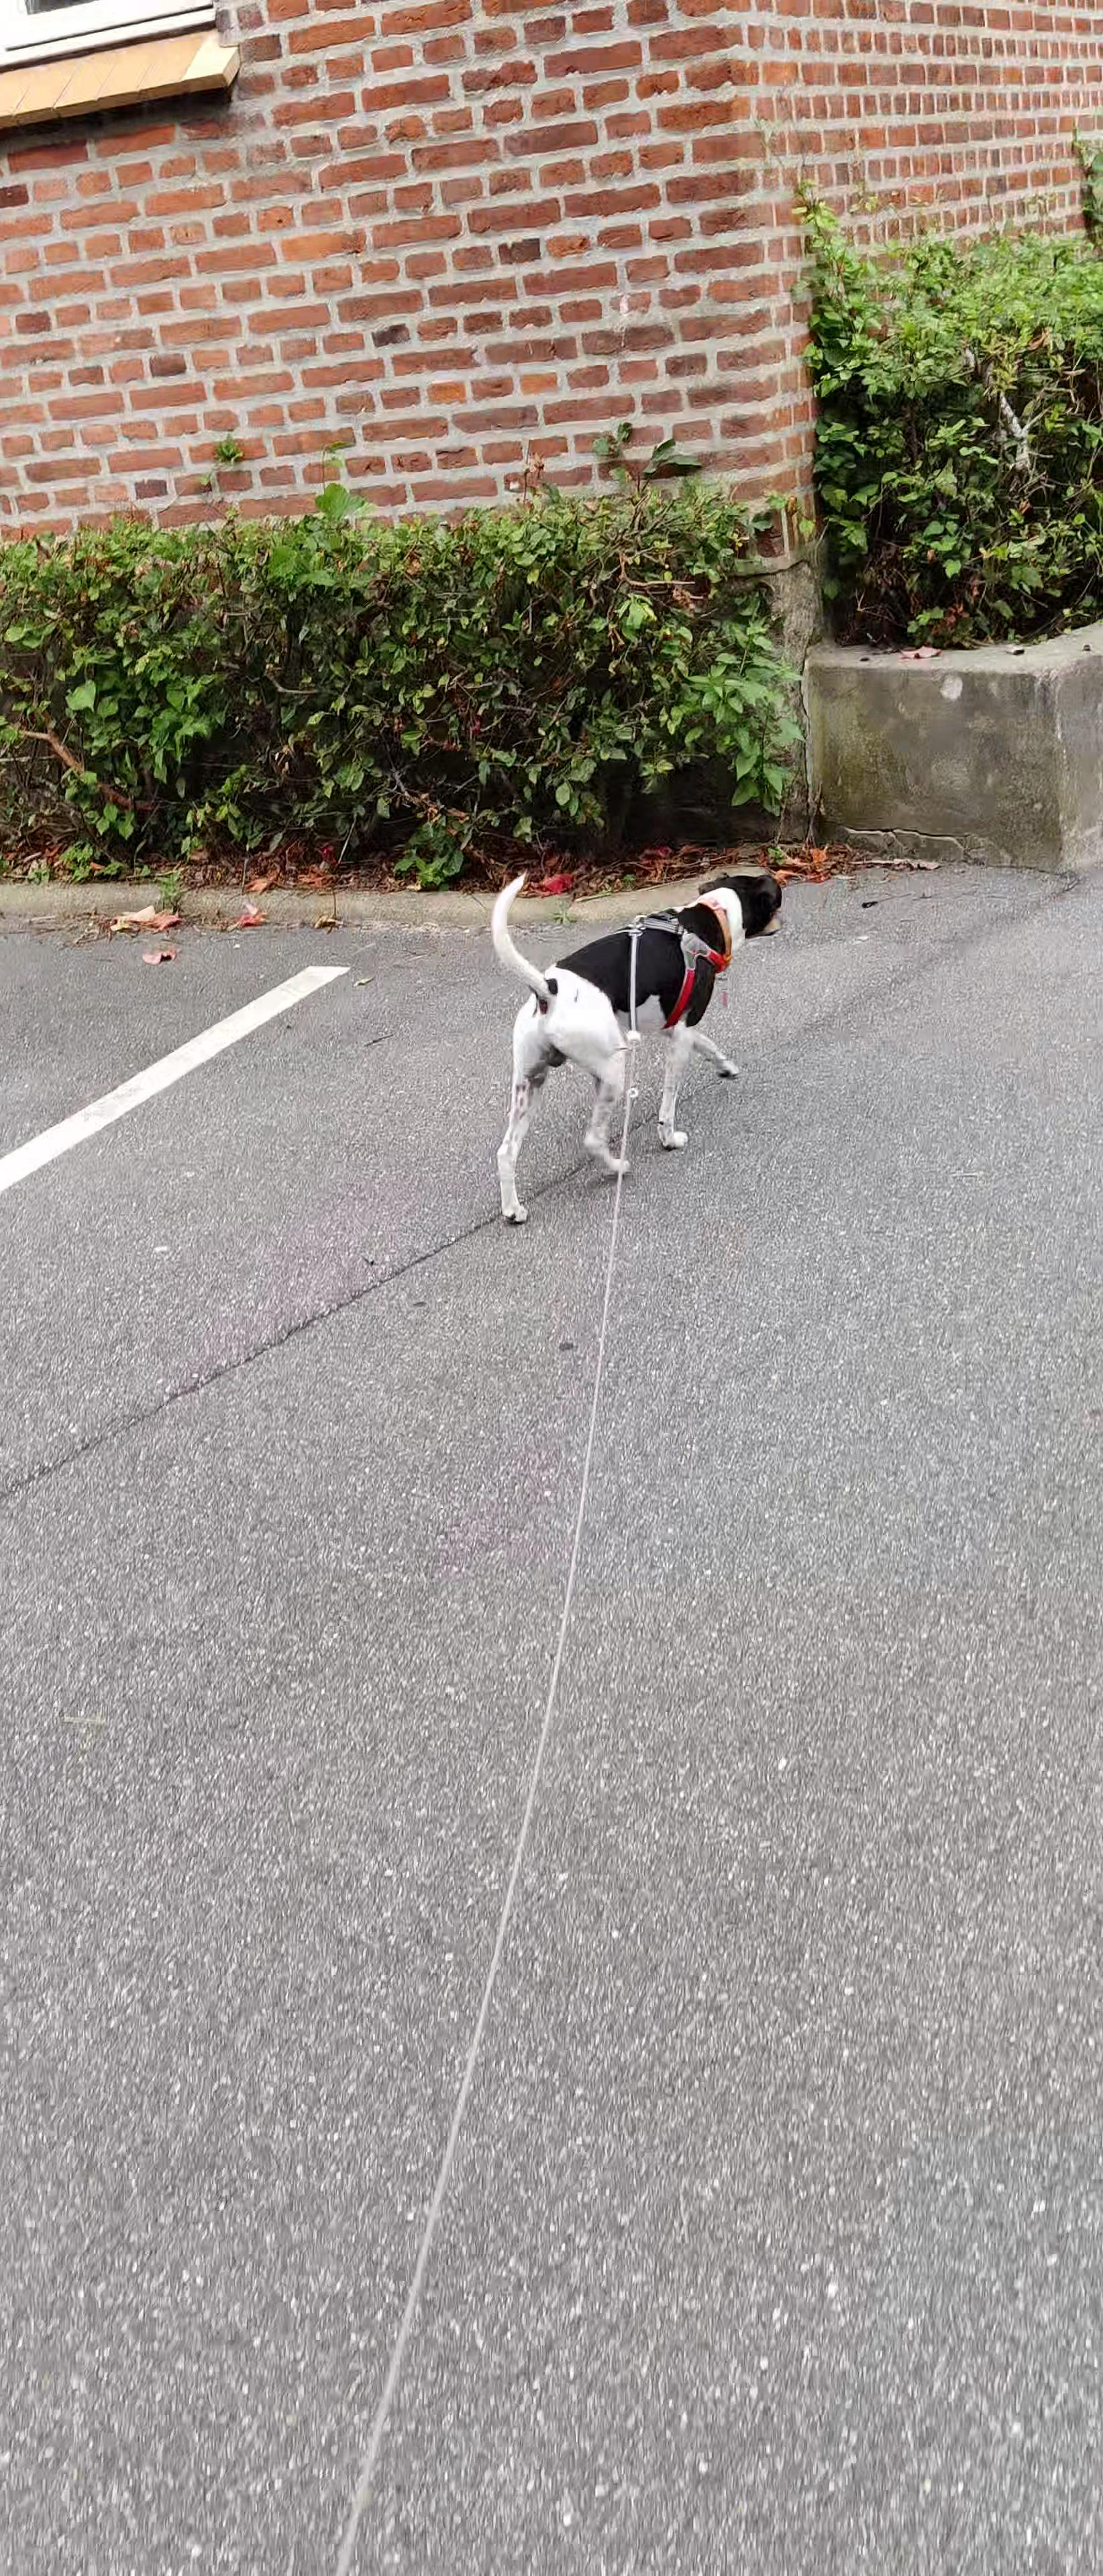Dog: (487, 861, 787, 1226)
